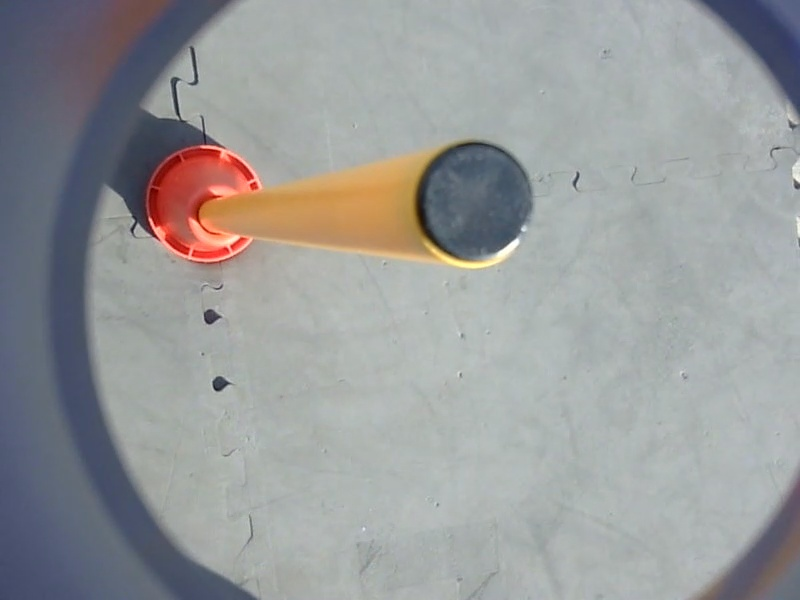tip: (402, 134, 541, 276)
